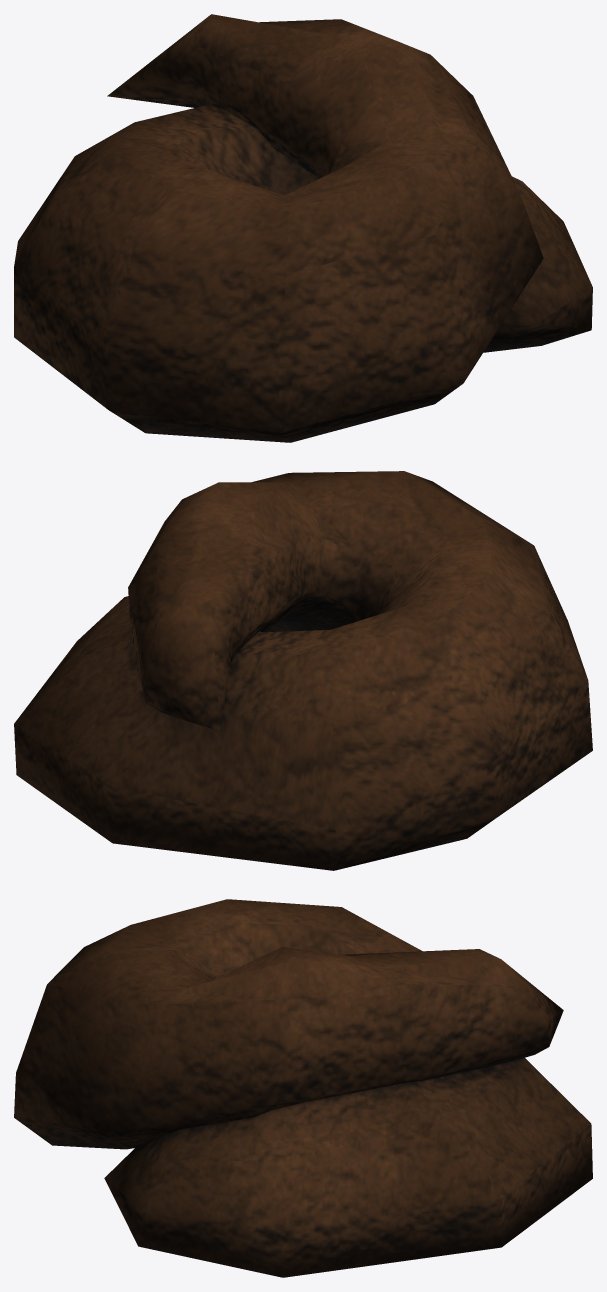
File: poop.obj
3 views of the same model, one above another, from view 1: azimuth 30°, elevation 25°; view 2: azimuth 150°, elevation 25°; view 3: azimuth 270°, elevation 25° (orthographic). The views are drawn at different scales.
Parts seen in each view (by area): view 1: poop; view 2: poop; view 3: poop.
Part boxes in pixels (x1,y1,x2,y2): poop: (14,14,592,442); poop: (14,471,592,870); poop: (14,899,592,1277).
Bounding box in the file's own units: 0.2272 × 0.1251 × 0.2431.
Materials: 1 (1 with a texture image).
